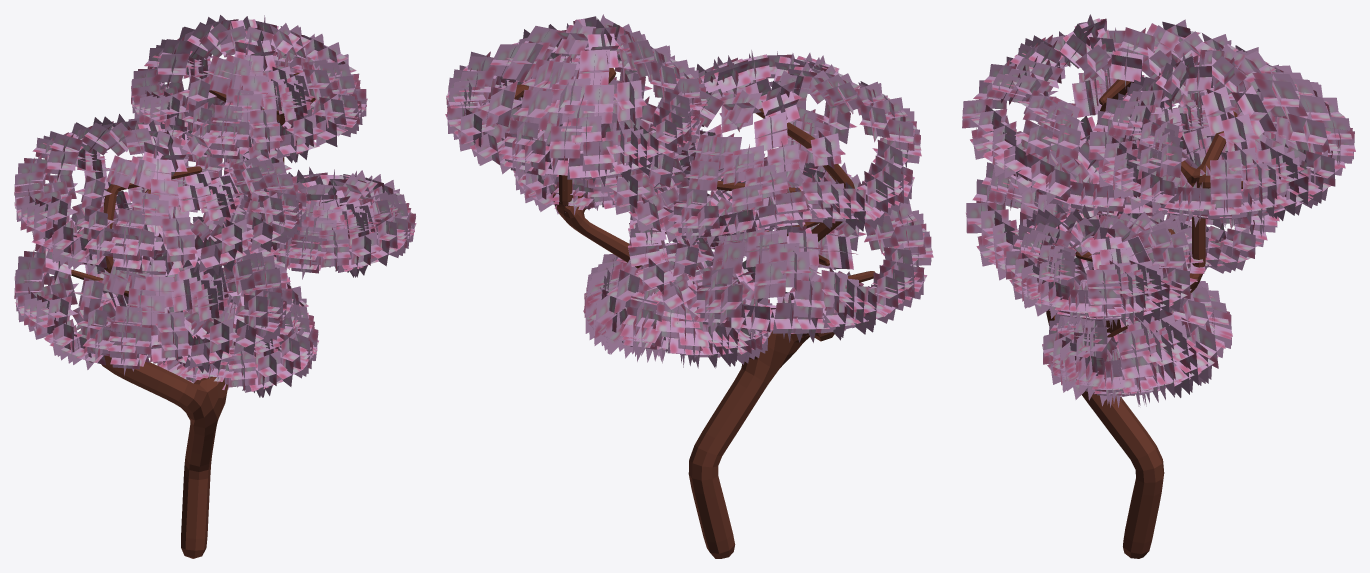
The model's file is cerejeira_2.fbx.
3 renders of one model, left to right at view 1: azimuth 30°, elevation 25°; view 2: azimuth 150°, elevation 25°; view 3: azimuth 270°, elevation 25°, orthographic. The views are drawn at different scales.
Parts seen in each view (by area): view 1: Plane.002; view 2: Plane.002; view 3: Plane.002.
Part boxes in pixels (x1,y1,x2,y2): Plane.002: (14, 15, 416, 558); Plane.002: (445, 14, 933, 558); Plane.002: (962, 14, 1355, 558).
Bounding box in the file's own units: 1594 × 2058 × 1332.
1 material, 1 textured.
